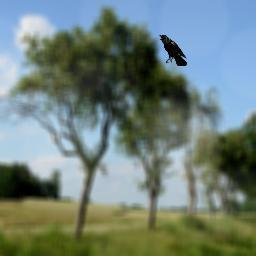Crow: (159, 34, 187, 66)
